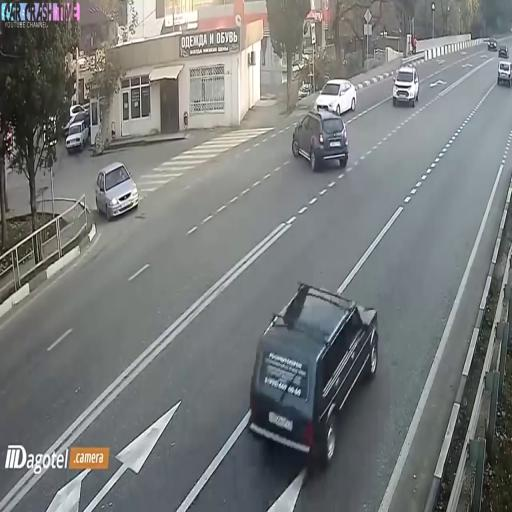小汽车: (253, 278, 379, 460), (291, 113, 352, 168), (93, 159, 140, 224), (314, 77, 358, 111), (392, 62, 420, 107), (63, 121, 91, 151), (496, 56, 512, 87), (484, 35, 501, 52)
